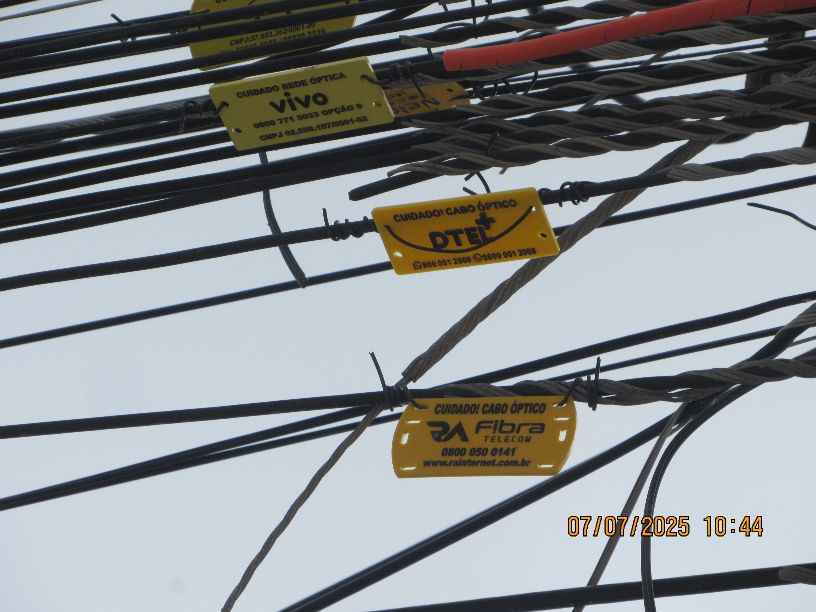fibra_optica: (188, 345, 806, 482), (132, 45, 708, 157), (302, 158, 807, 272)
